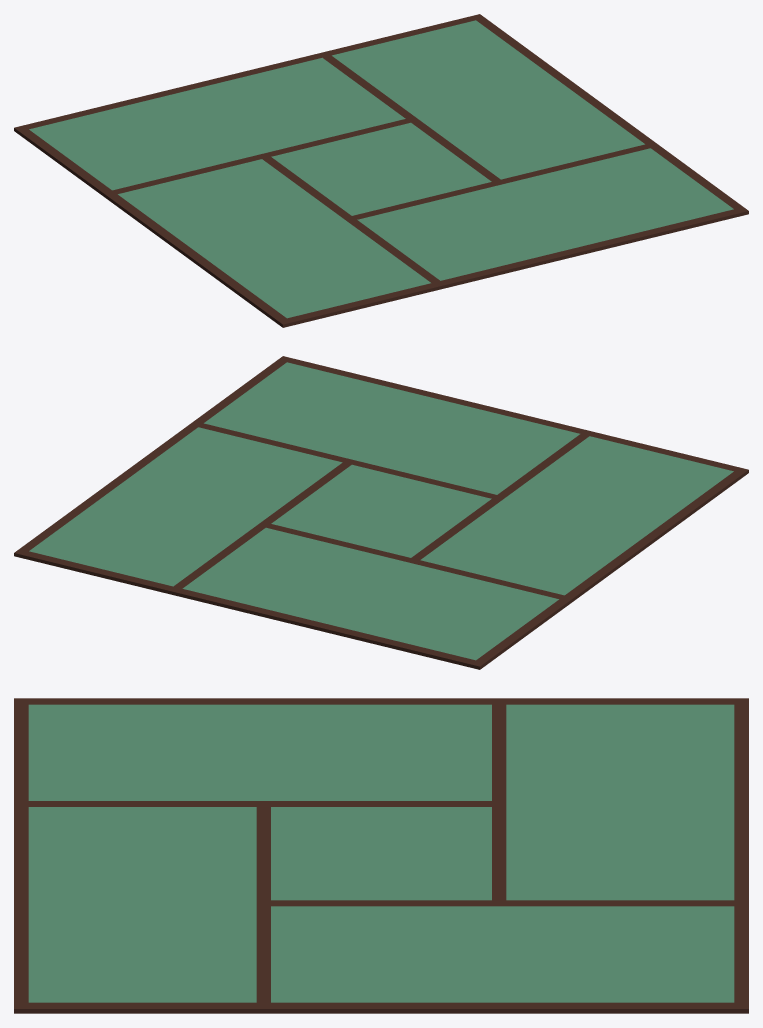
File: 26_thamtatami.fbx
The picture shows the model from 3 angles, top to bottom: view 1: azimuth 30°, elevation 25°; view 2: azimuth 150°, elevation 25°; view 3: azimuth 270°, elevation 25°; orthographic projection. The views are drawn at different scales.
Visible parts, largest first — view 1: Plane; view 2: Plane; view 3: Plane.
Boxes of the visible parts, box(x1,y1,x2,y2) form: Plane: box(14, 14, 748, 327); Plane: box(14, 356, 748, 669); Plane: box(14, 698, 748, 1013).
Size of the model in its own units: 600 by 4.08 by 600.
